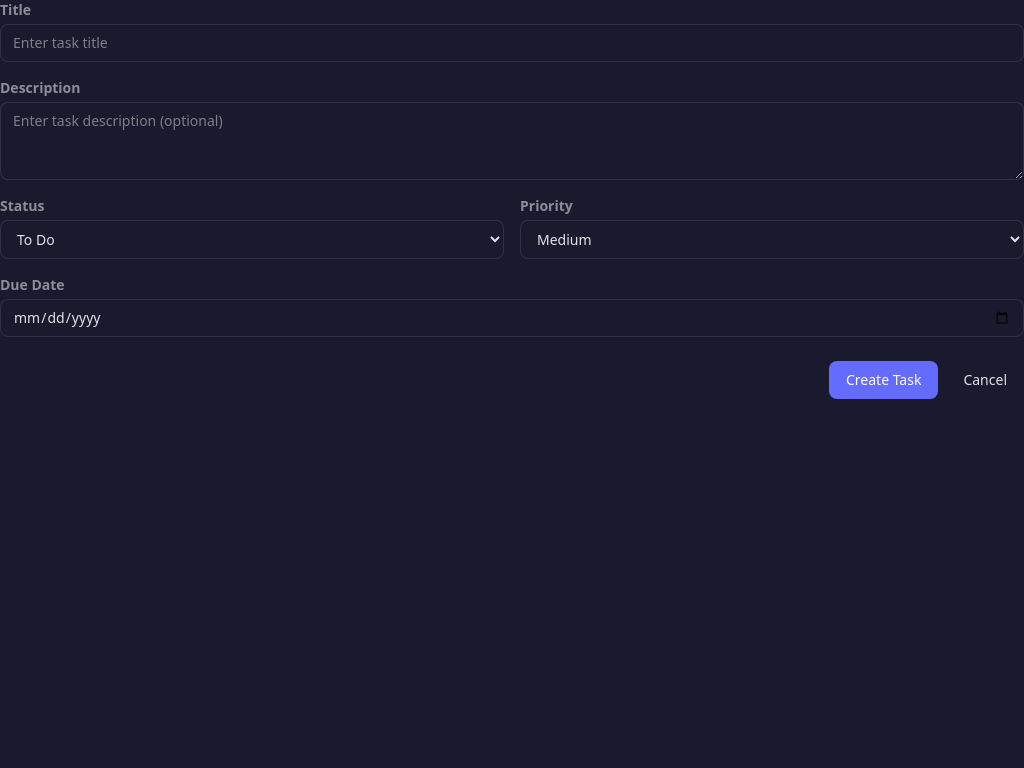
Test case: TaskForm › confirm dialog "Keep editing" keeps form open
The width and height of the screenshot is (1024, 768).
Type "dirty" into the field labelled "Title" at (512,43), box x1=0 y1=24 x2=1023 y2=62
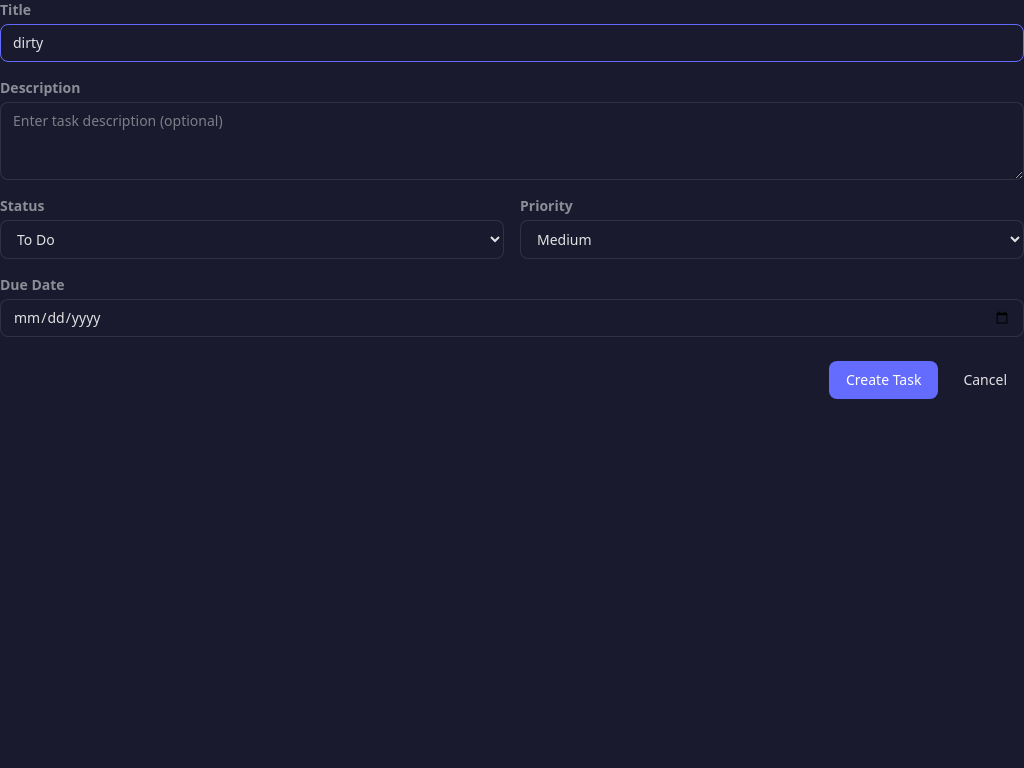
Click the button "Cancel" at (985,380), box x1=946 y1=361 x2=1023 y2=399
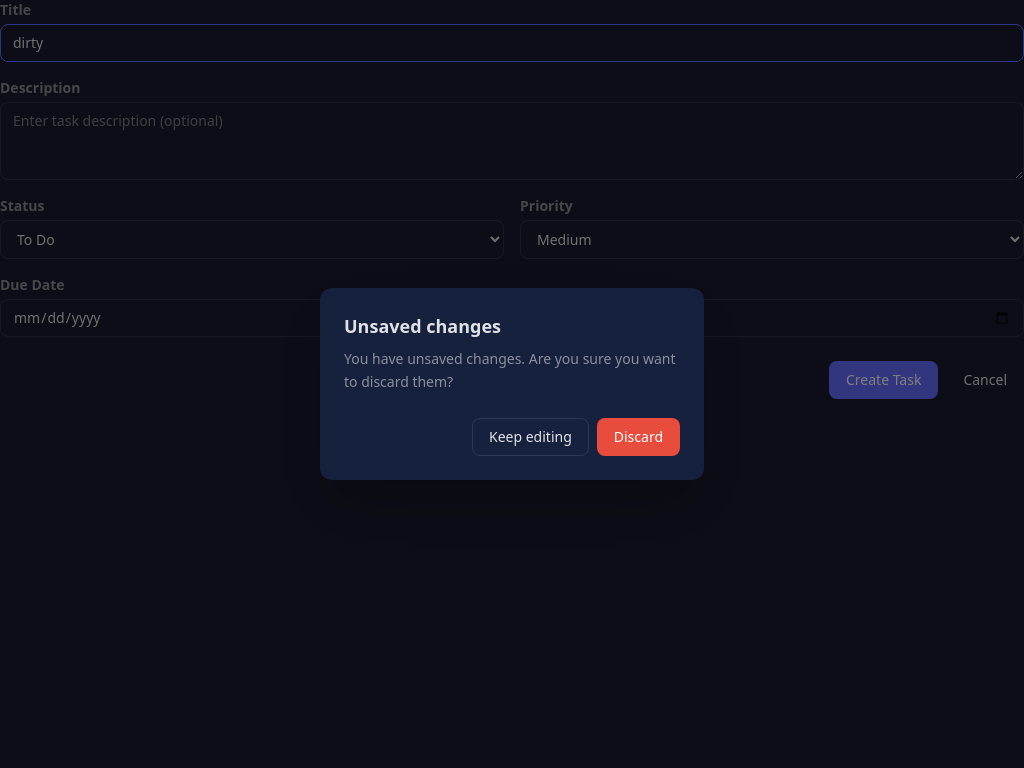
Click the button "Keep editing" at (530,437), box x1=472 y1=418 x2=589 y2=456
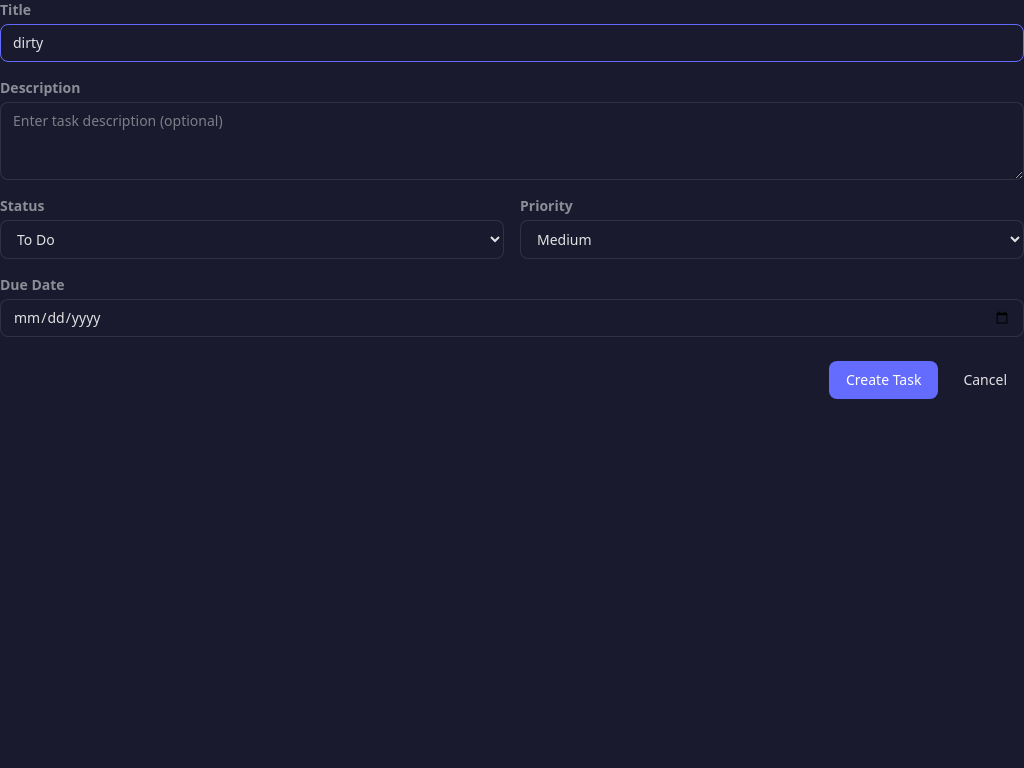
Expected: the heading "Unsaved changes" is gone
